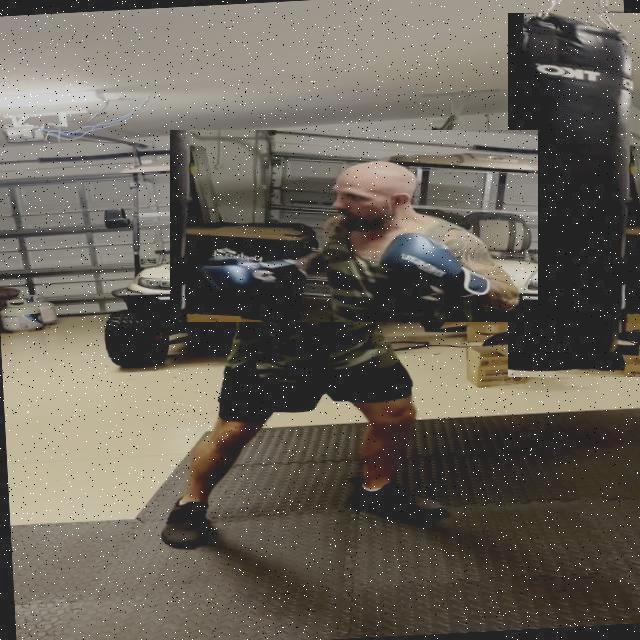punch: (170, 130, 538, 322)
